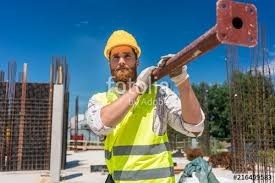helmet: (102, 29, 143, 62)
person with full safety: (84, 29, 174, 182)
safety vest: (97, 89, 170, 179)
